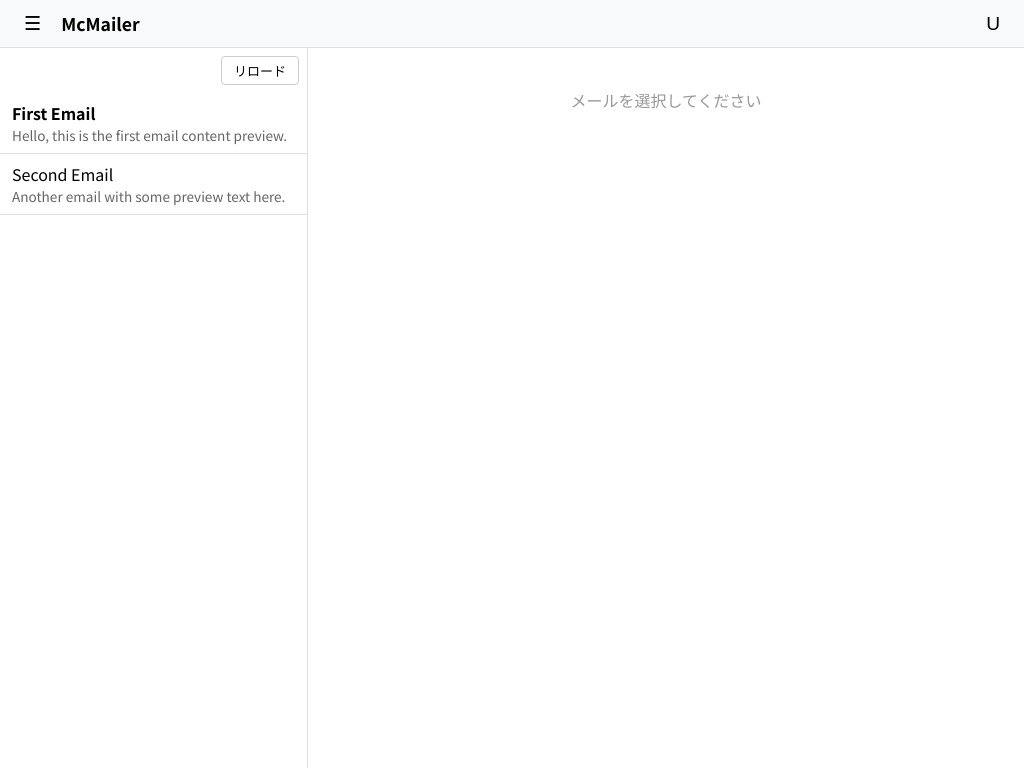
Test: MailScreen › should hide mail list when toggle button is clicked
// clicking the sidebar toggle button
Click the button "☰".
click(33, 24)  # box [16, 8, 49, 39]
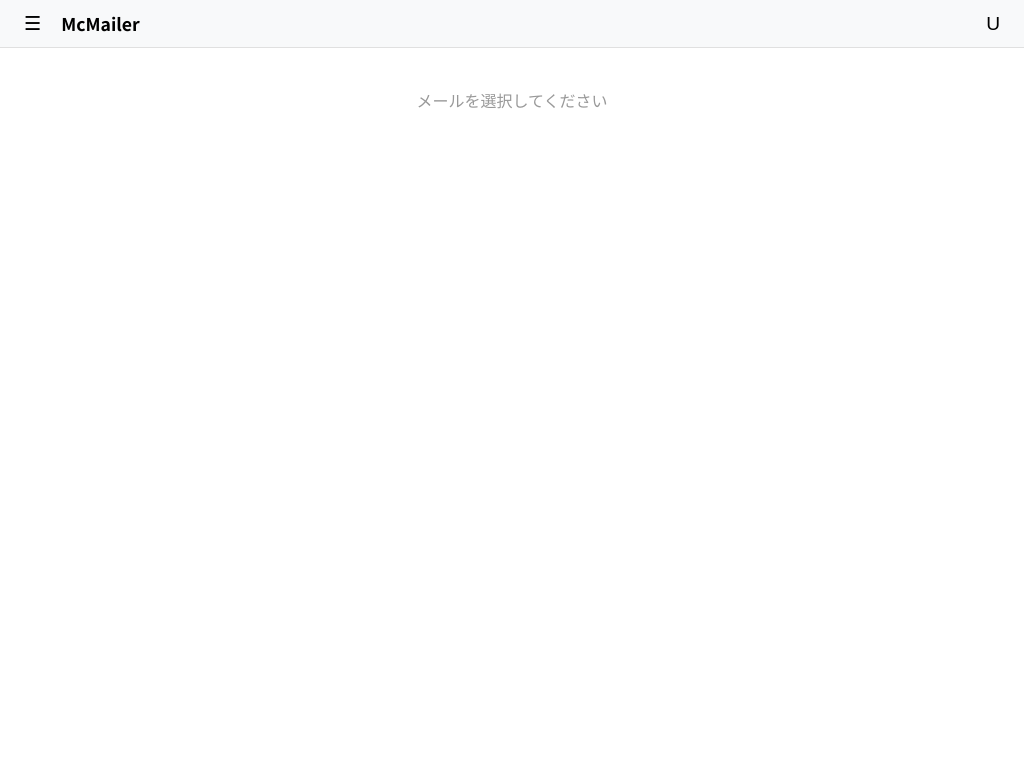
Expected: the text "First Email" is gone
